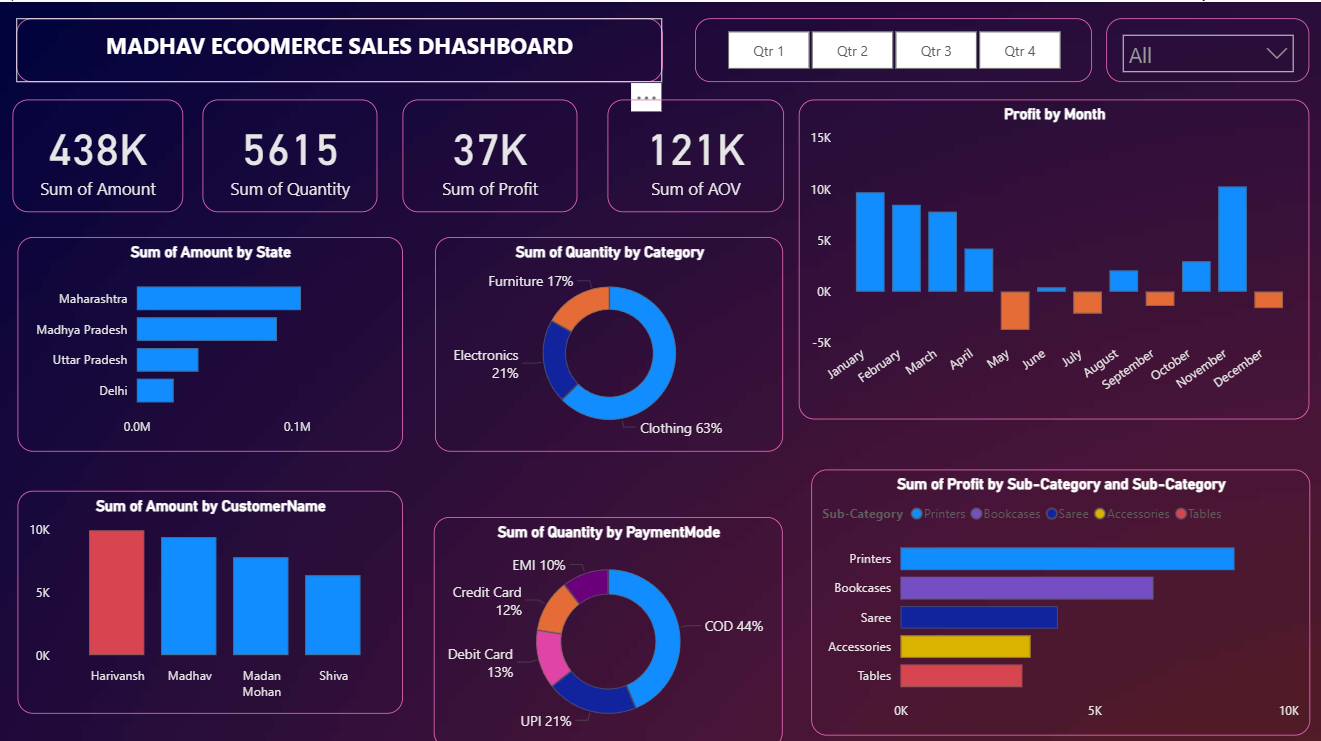

What the dashboard file says about the page in this screenshot:
{"tool":"powerbi","page":{"name":"Page 1","canvas":[1280,720],"ordinal":0},"visuals":[{"type":"textbox","box":[15.1,15.1,624.4,61.7],"z":0},{"type":"columnChart","title":"Profit by Month","fields":{"Y":["Details (1).Profit"],"Category":["Orders (1).Order Date.Variation.Date Hierarchy.Month"]},"box":[771.2,94.7,492.6,308.7],"z":1000},{"type":"barChart","fields":{"Category":["Details (1).Sub-Category"],"Y":["Details (1).Profit"],"Series":["Details (1).Sub-Category"]},"box":[783,451.2,481.4,257],"z":2000},{"type":"donutChart","fields":{"Category":["Details (1).Category"],"Y":["Details (1).Quantity"]},"box":[419.9,226.4,336.2,207.2],"z":3000},{"type":"donutChart","fields":{"Y":["Details (1).Quantity"],"Category":["Details (1).PaymentMode"]},"box":[418.6,497.1,336.6,223.2],"z":4000},{"type":"card","fields":{"Values":["Details (1).Amount"]},"box":[12.3,94.7,164.7,108.4],"z":5000},{"type":"card","fields":{"Values":["Details (1).Quantity"]},"box":[194.9,94.7,168.8,108.4],"z":6000},{"type":"card","fields":{"Values":["Details (1).Profit"]},"box":[388.3,94.7,168.8,108.4],"z":7000},{"type":"card","fields":{"Values":["Details (1).AOV"]},"box":[585.9,94.7,170.2,108.4],"z":8000},{"type":"barChart","fields":{"Category":["Orders (1).State"],"Y":["Details (1).Amount"]},"box":[16.5,226.4,371.9,207.2],"z":9000},{"type":"columnChart","fields":{"Category":["Orders (1).CustomerName"],"Y":["Details (1).Amount"]},"box":[16.5,472,371.9,215.4],"z":10000},{"type":"slicer","fields":{"Values":["Orders (1).Order Date.Variation.Date Hierarchy.Quarter"]},"box":[671,15.1,382.8,61.7],"z":11000},{"type":"slicer","fields":{"Values":["Orders (1).State"]},"box":[1067.6,15.1,196.2,61.7],"z":12000}]}

Visuals, with their boxes in screenshot pixels (x1, y1, x2, y2), scaled from the page's 1280x720 canvas onto the 1321x741 screenshot:
textbox: bbox=[16, 16, 660, 79]
"Profit by Month" columnChart: bbox=[796, 97, 1304, 415]
barChart - Details (1).Sub-Category x Details (1).Profit: bbox=[808, 464, 1305, 729]
donutChart - Details (1).Category x Details (1).Quantity: bbox=[433, 233, 780, 446]
donutChart - Details (1).Quantity x Details (1).PaymentMode: bbox=[432, 512, 779, 740]
card - Details (1).Amount: bbox=[13, 97, 183, 209]
card - Details (1).Quantity: bbox=[201, 97, 375, 209]
card - Details (1).Profit: bbox=[401, 97, 575, 209]
card - Details (1).AOV: bbox=[605, 97, 780, 209]
barChart - Orders (1).State x Details (1).Amount: bbox=[17, 233, 401, 446]
columnChart - Orders (1).CustomerName x Details (1).Amount: bbox=[17, 486, 401, 707]
slicer - Orders (1).Order Date.Variation.Date Hierarchy.Quarter: bbox=[692, 16, 1088, 79]
slicer - Orders (1).State: bbox=[1102, 16, 1304, 79]
